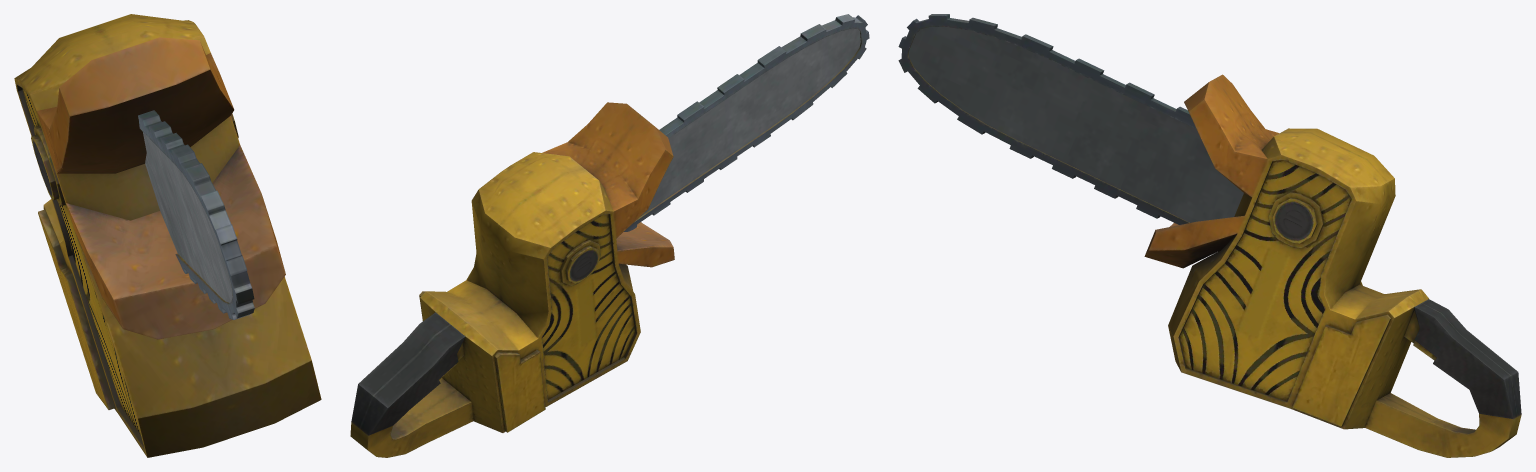
The picture shows the model from 3 angles, left to right: view 1: azimuth 30°, elevation 25°; view 2: azimuth 150°, elevation 25°; view 3: azimuth 270°, elevation 25°; orthographic projection. The views are drawn at different scales.
Parts seen in each view (by area): view 1: Ducksaw, Saw, Teeth; view 2: Ducksaw, Saw, Teeth; view 3: Ducksaw, Saw, Teeth.
Part boxes in pixels (x1=…): Ducksaw: x1=14, y1=14, x2=321, y2=457; Saw: x1=143, y1=132, x2=232, y2=302; Teeth: x1=138, y1=110, x2=254, y2=319; Ducksaw: x1=350, y1=102, x2=674, y2=457; Saw: x1=640, y1=28, x2=860, y2=216; Teeth: x1=624, y1=14, x2=869, y2=231; Ducksaw: x1=1144, y1=74, x2=1521, y2=457; Saw: x1=909, y1=27, x2=1243, y2=222; Teeth: x1=898, y1=14, x2=1196, y2=224.
Bounding box in the file's own units: 2.87 × 3.57 × 6.
Materials: 1 (1 with a texture image).
